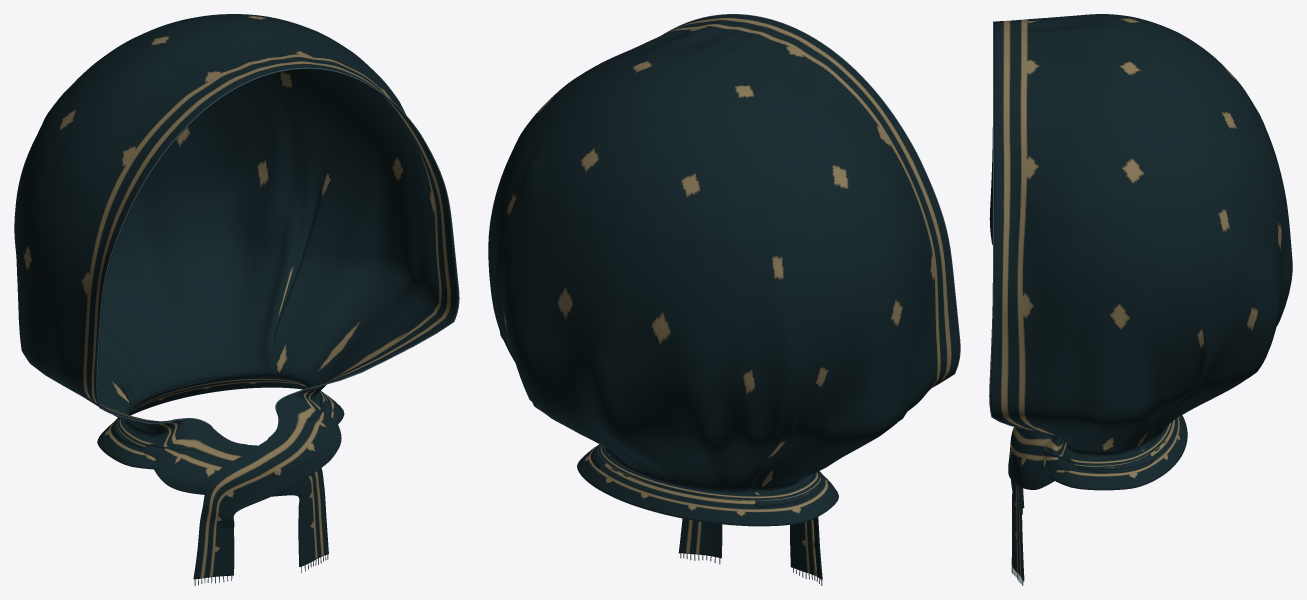
Rendered from Masculine-tshirt-pashmina239-headgear.glb.
3 renders of one model, left to right at view 1: azimuth 30°, elevation 25°; view 2: azimuth 150°, elevation 25°; view 3: azimuth 270°, elevation 25°, orthographic. The views are drawn at different scales.
Parts seen in each view (by area): view 1: 226 headgear / Headwear / continuous woven pashmina239, 226 headgear / Headwear / face edge239; view 2: 226 headgear / Headwear / continuous woven pashmina239, 226 headgear / Headwear / face edge239; view 3: 226 headgear / Headwear / continuous woven pashmina239, 226 headgear / Headwear / face edge239.
Part boxes in pixels (box(x1,y1,x2,y2)): 226 headgear / Headwear / continuous woven pashmina239: box(14, 14, 458, 579); 226 headgear / Headwear / face edge239: box(96, 67, 459, 426); 226 headgear / Headwear / continuous woven pashmina239: box(488, 14, 959, 579); 226 headgear / Headwear / face edge239: box(663, 14, 960, 387); 226 headgear / Headwear / continuous woven pashmina239: box(990, 14, 1292, 581); 226 headgear / Headwear / face edge239: box(989, 21, 1037, 431).
Bounding box in the file's own units: 1.03 × 1.35 × 0.7127.
3 materials, 1 textured.
